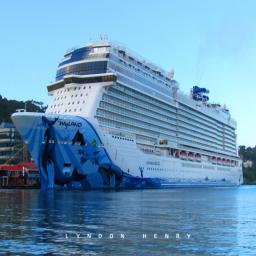cruises: (11, 33, 246, 197)
